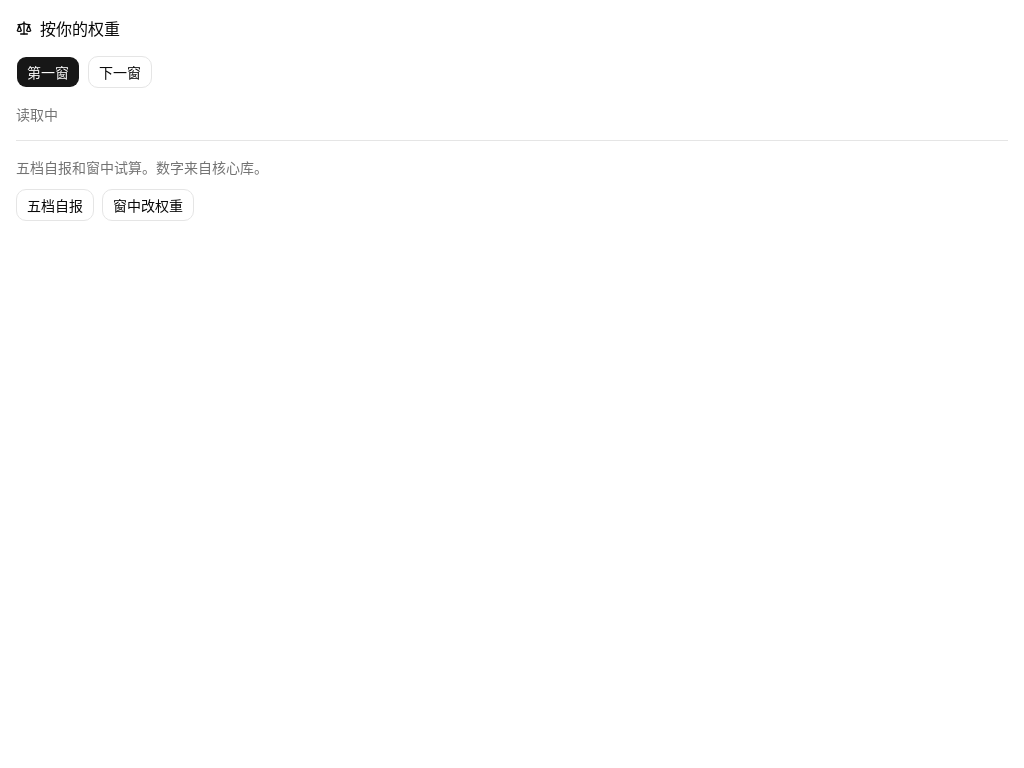
Test: a mid-window weight edit creates a trial and leaves the official weights
Step 1. Click the button "窗中改权重" → coordinates (148, 205), box [102, 189, 194, 221]
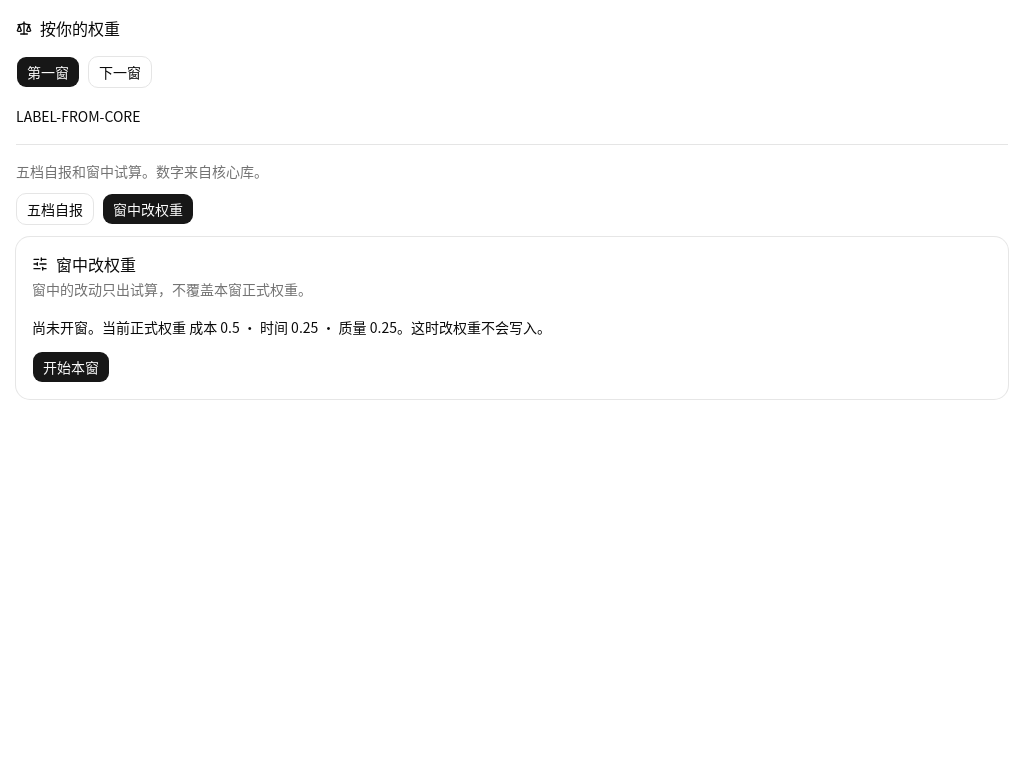
Expected: the button "保存试算" is not shown
Expected: the text "尚未开窗。当前正式权重 成本 0.5 · 时间 0.25 · 质量 0.25。这时改权重不会写入。" is shown, [32, 315, 551, 339]
Step 2. Click the button "开始本窗" → coordinates (71, 367), box [32, 351, 110, 383]
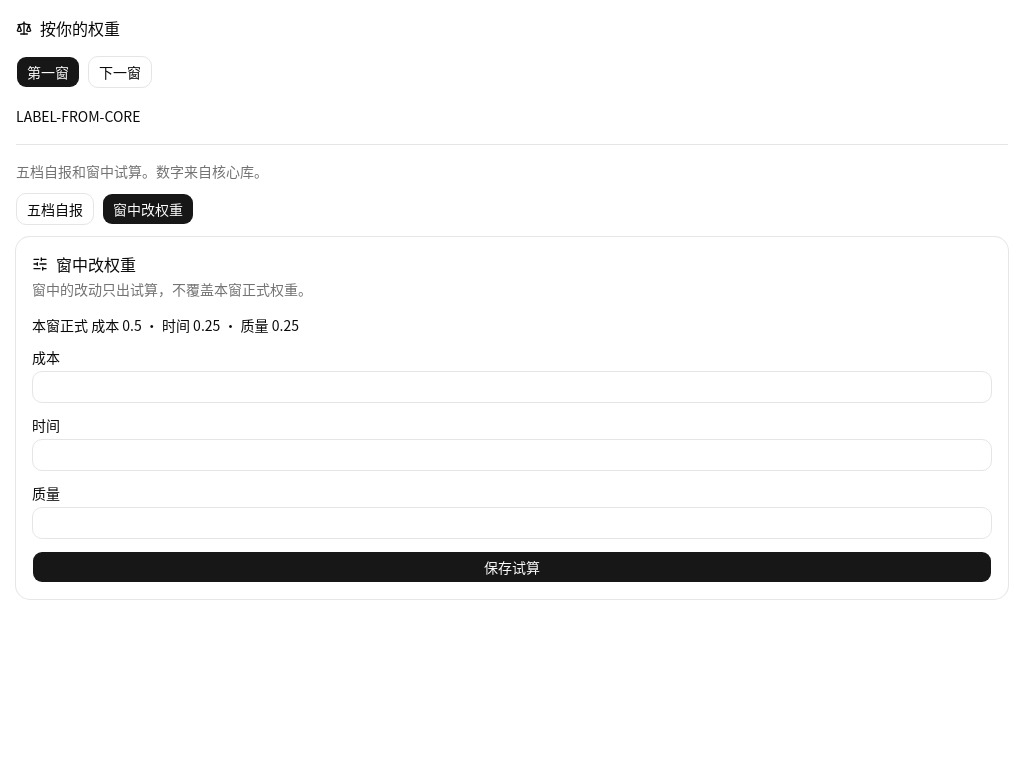
Step 3. Type "abc" into the field named "成本权重" → coordinates (512, 387), box [32, 371, 992, 403]
Step 4. Click the button "保存试算" → coordinates (512, 567), box [32, 551, 992, 583]
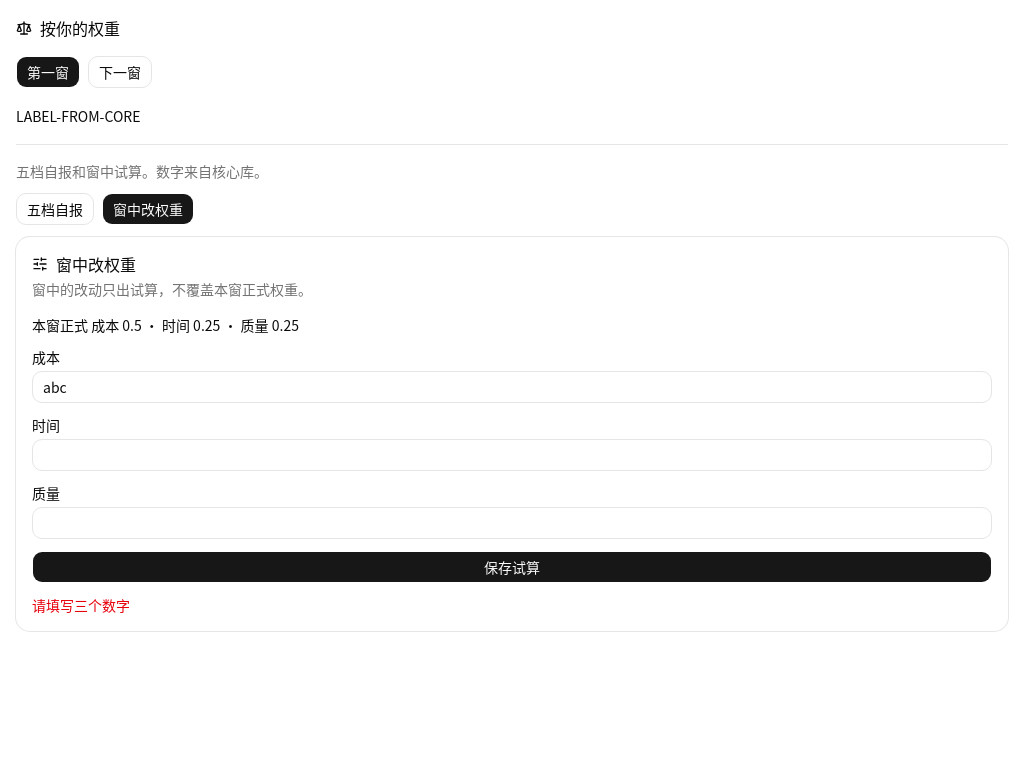
Expected: the text "请填写三个数字" is shown, [32, 595, 130, 615]
Step 5. Replace the text in the field named "成本权重" with "0.2" → coordinates (512, 387), box [32, 371, 992, 403]
Step 6. Type "0.3" into the field named "时间权重" → coordinates (512, 455), box [32, 439, 992, 471]
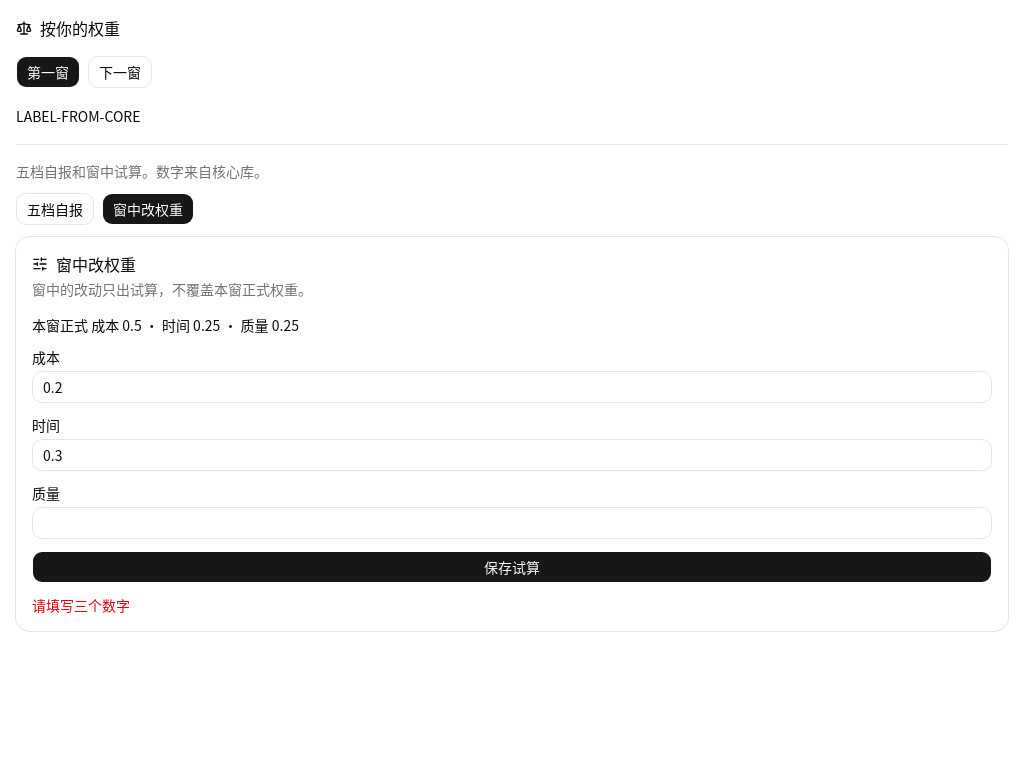
Step 7. Type "0.5" into the field named "质量权重" → coordinates (512, 523), box [32, 507, 992, 539]
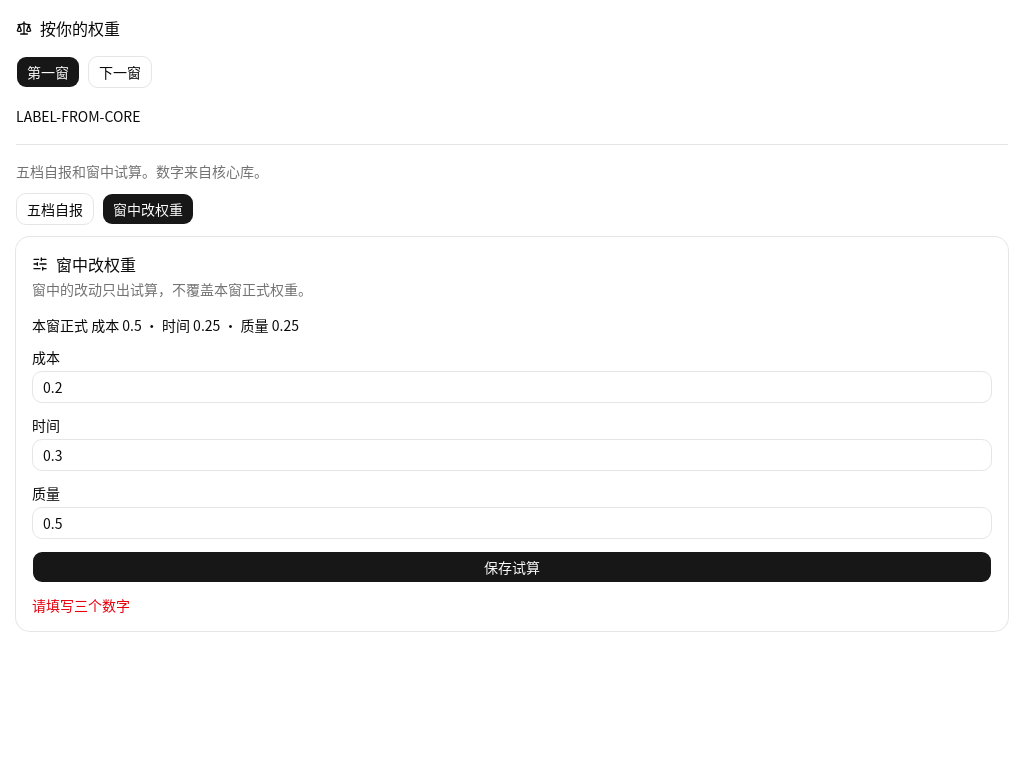
Step 8. Click the button "保存试算" → coordinates (512, 567), box [32, 551, 992, 583]
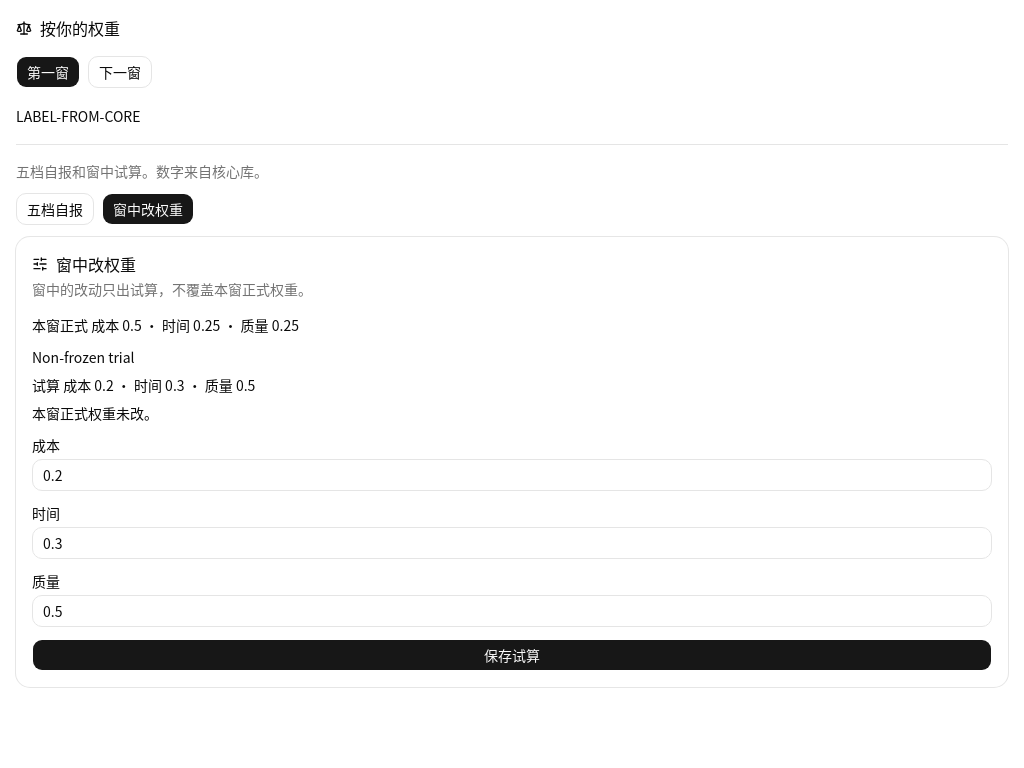
Expected: the text "本窗正式 成本 0.5 · 时间 0.25 · 质量 0.25" is shown, [32, 315, 299, 335]
Expected: the text "Non-frozen trial" is shown, [32, 347, 135, 367]
Expected: the text "试算 成本 0.2 · 时间 0.3 · 质量 0.5" is shown, [32, 375, 255, 395]
